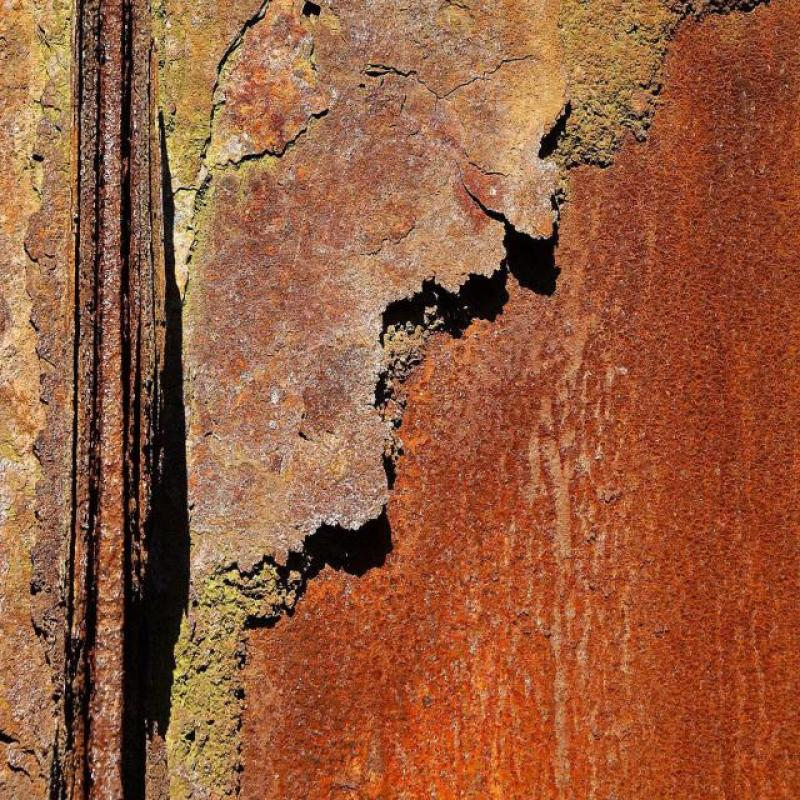Fracture: (260, 475, 500, 613), (418, 215, 592, 360)
